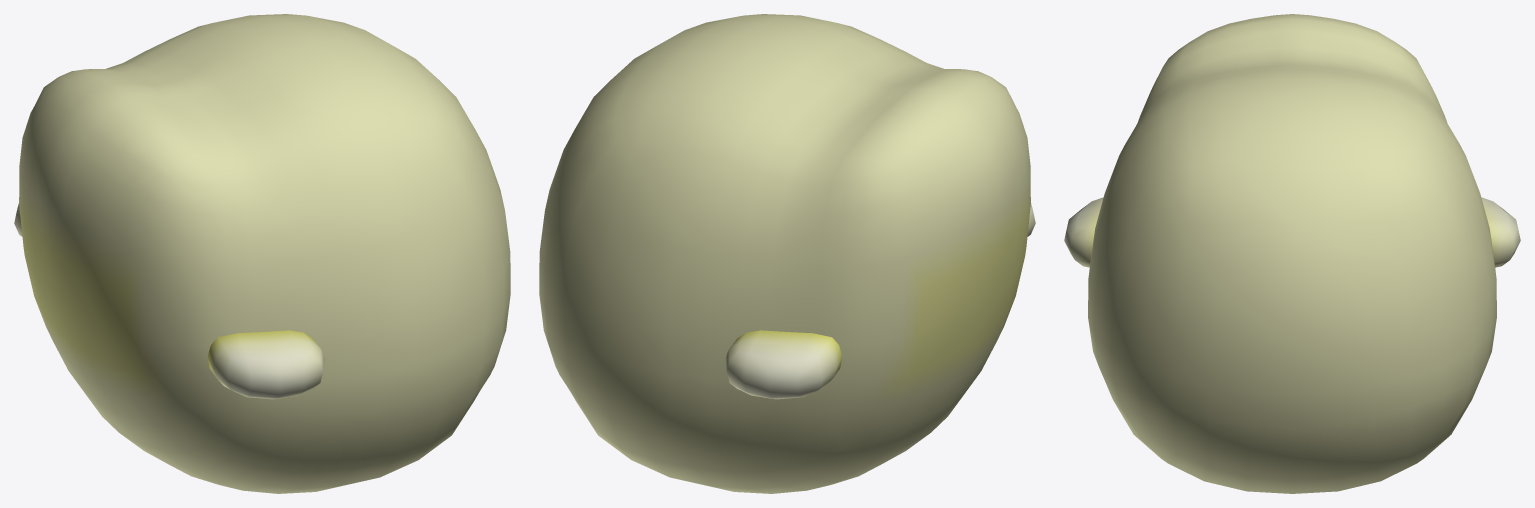
Rendered from PC_Man_Face.glb.
The picture shows the model from 3 angles, left to right: view 1: azimuth 30°, elevation 25°; view 2: azimuth 150°, elevation 25°; view 3: azimuth 270°, elevation 25°; orthographic projection. The views are drawn at different scales.
Parts seen in each view (by area): view 1: PC_Man_Face_mesh; view 2: PC_Man_Face_mesh; view 3: PC_Man_Face_mesh.
Boxes of the visible parts, left/top/right/bottom form: PC_Man_Face_mesh: left=14, top=14, right=510, bottom=493; PC_Man_Face_mesh: left=539, top=14, right=1035, bottom=493; PC_Man_Face_mesh: left=1064, top=14, right=1520, bottom=493.
Size of the model in its own units: 0.9726 by 0.9239 by 0.9888.
